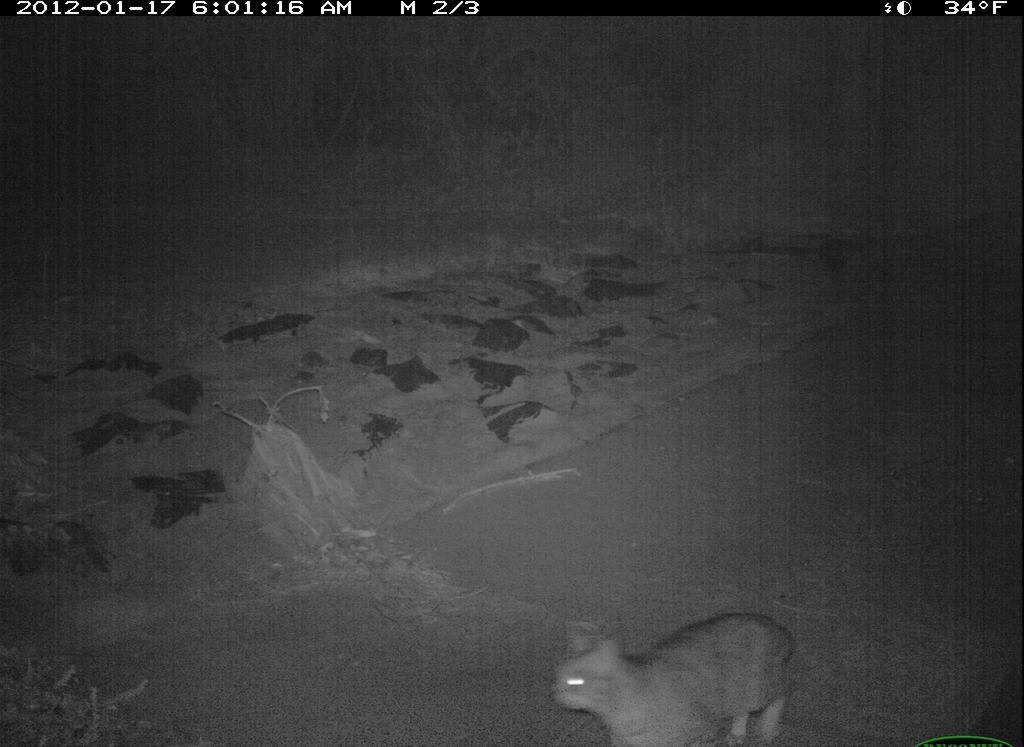cat: (542, 600, 843, 747)
